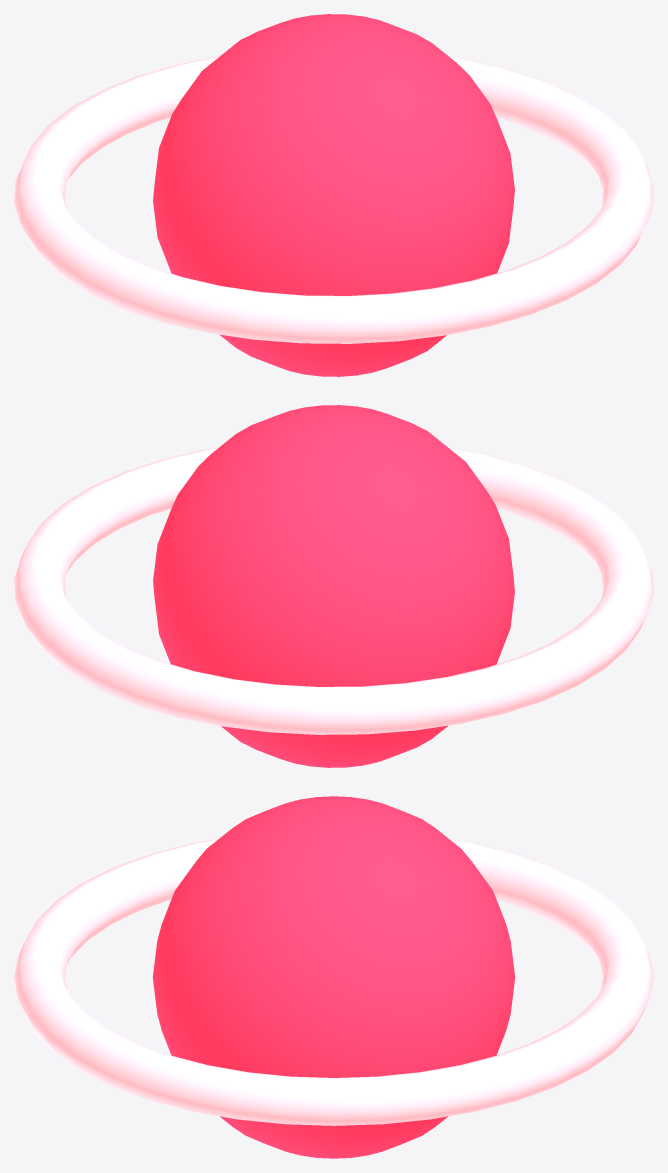
The model's file is kb_marker_red.glb.
3 renders of one model, top to bottom at view 1: azimuth 30°, elevation 25°; view 2: azimuth 150°, elevation 25°; view 3: azimuth 270°, elevation 25°, orthographic.
Parts seen in each view (by area): view 1: skin; view 2: skin; view 3: skin.
Part boxes in pixels (bbox=[...]): skin: bbox=[14, 14, 653, 376]; skin: bbox=[14, 405, 653, 767]; skin: bbox=[14, 796, 653, 1158].
Size of the model in its own units: 1.13 by 0.64 by 1.13.
